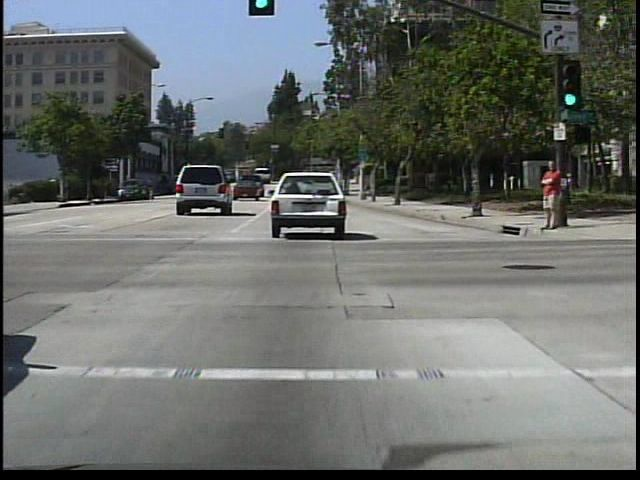person: (536, 158, 564, 234)
